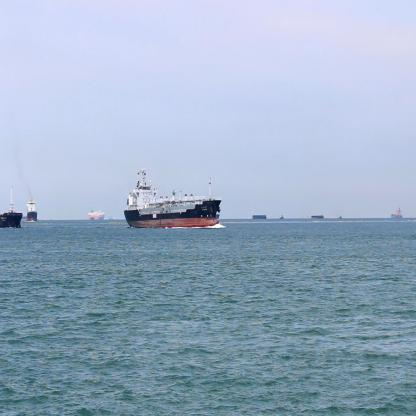Container Ship: (123, 166, 224, 230), (0, 182, 24, 230), (87, 210, 104, 222), (278, 213, 283, 220)
